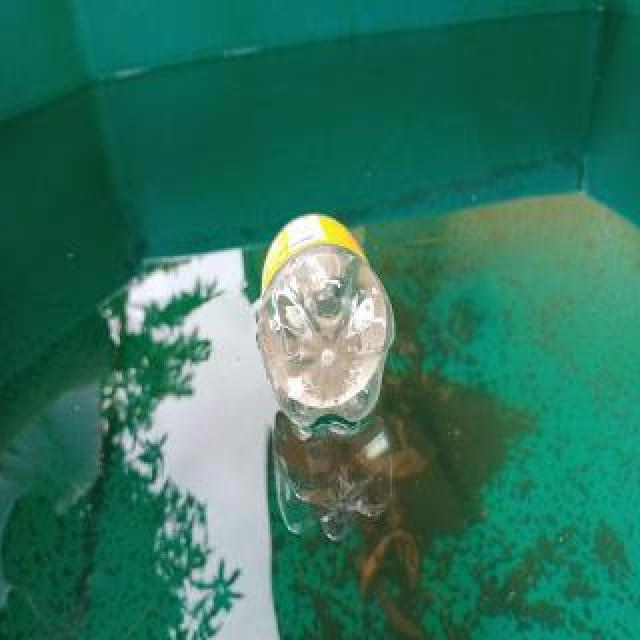bottle: (256, 207, 398, 431)
